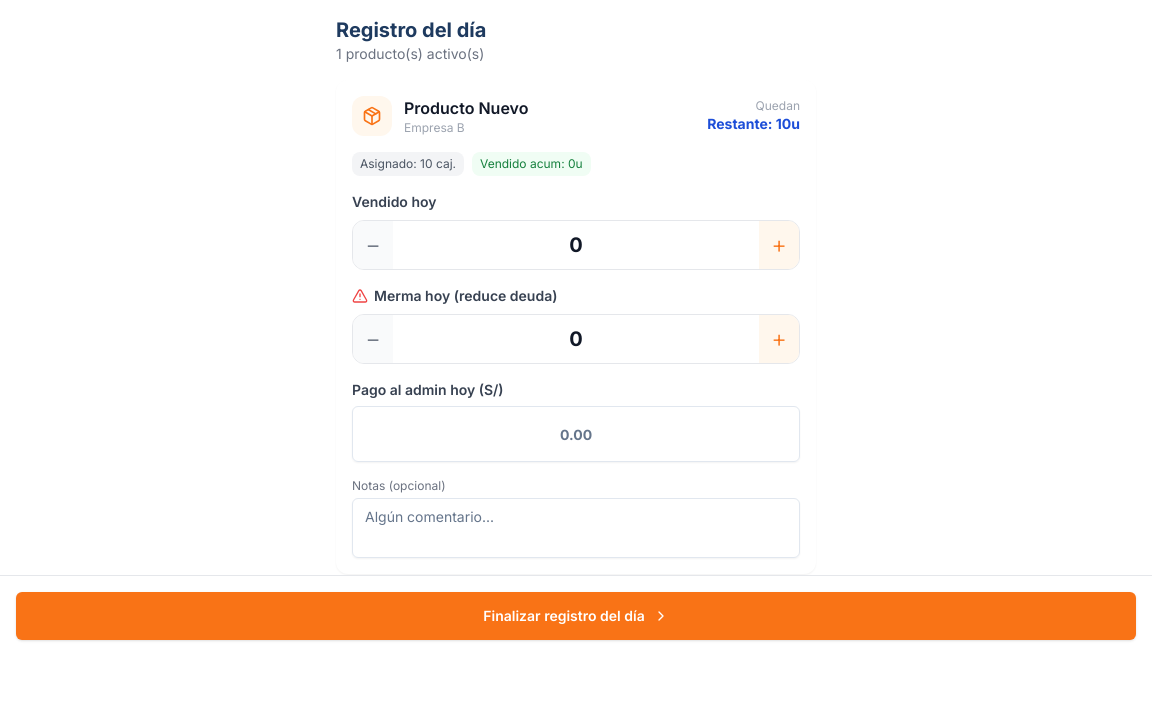
Test: calcula restante en tiempo real al cambiar vendido y merma
The image size is (1152, 720).
Expected: the text "Restante: 10u" is shown, [707,114,800,134]
Replace the text in the number field below "Vendido hoy" with "2" at point(576, 245), box [393,221,759,269]
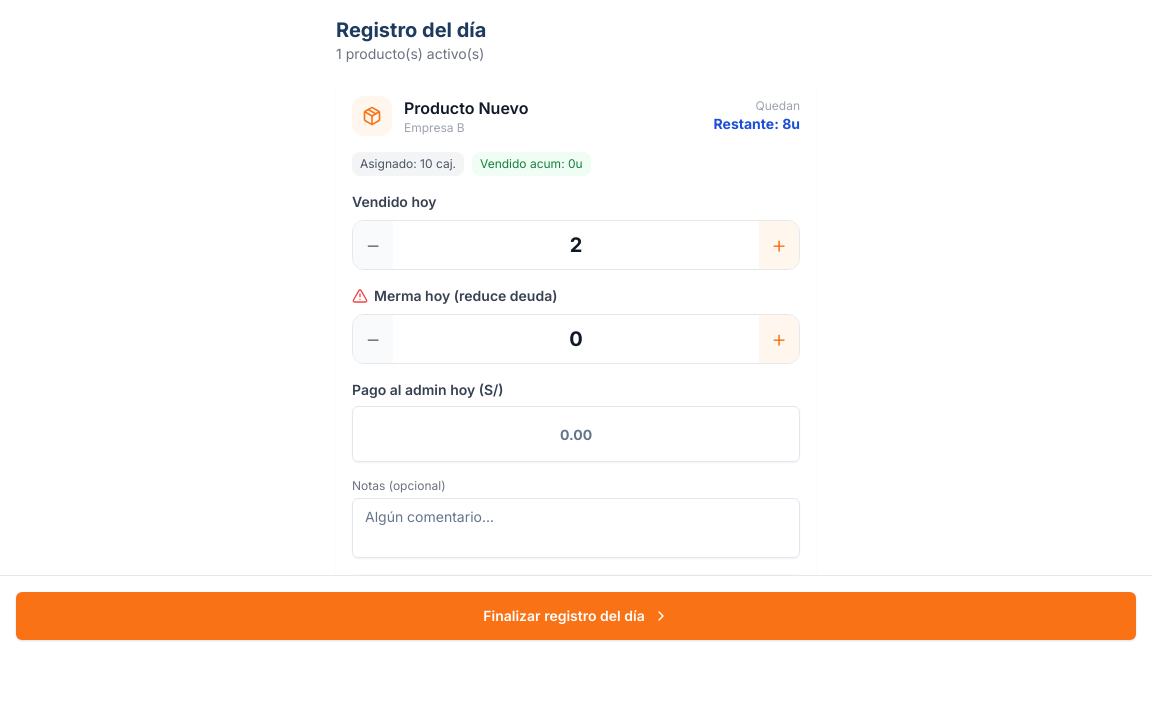
Replace the text in the number field below "Merma hoy (reduce deuda)" with "1" at point(576, 339), box [393,315,759,363]
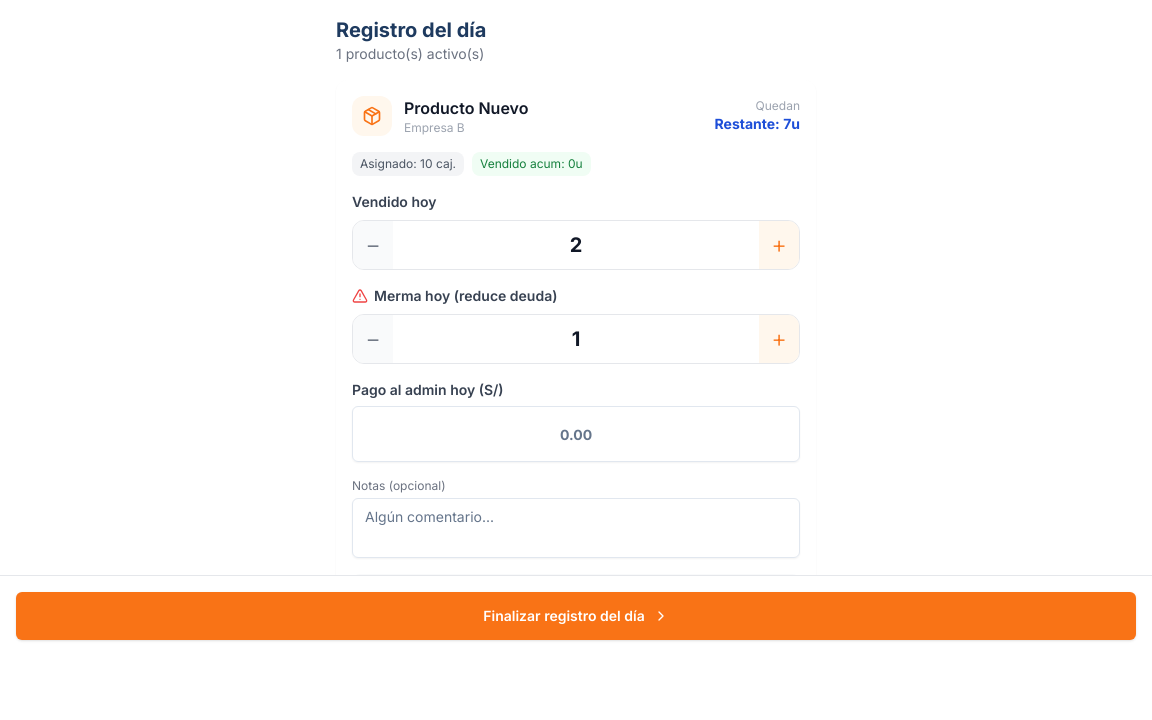
Now the text "Restante: 7u" is shown, box [714,114,800,134]
